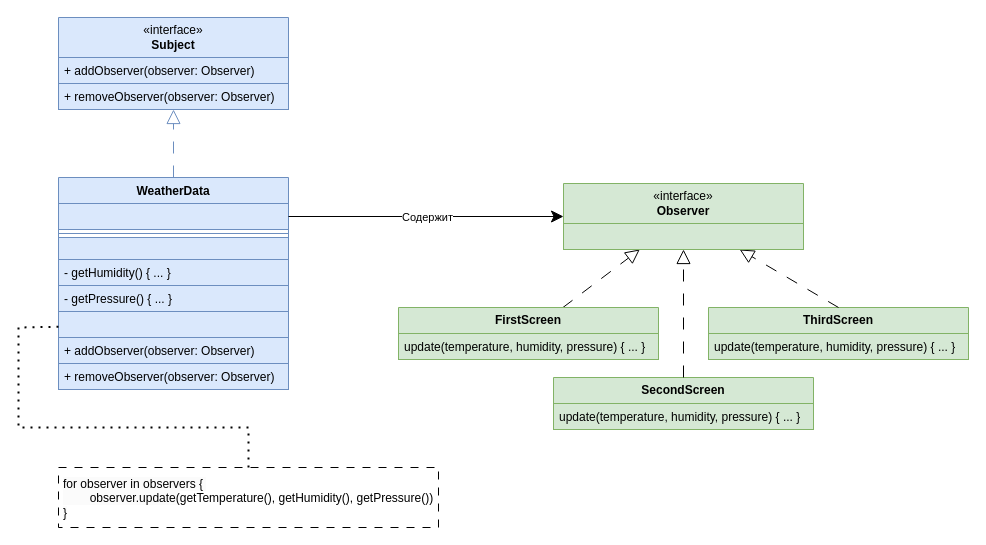
Image size: 986x545. Some labels were removed from this diagram. Each missing label, with the centre of its shape:
+ update(temperature, humidity, pressure): (683,236)
- getTemperature() { ... }: (173,248)
- measurementsChanged() { }: (173,324)
- observers: List<Observer>: (173,216)
